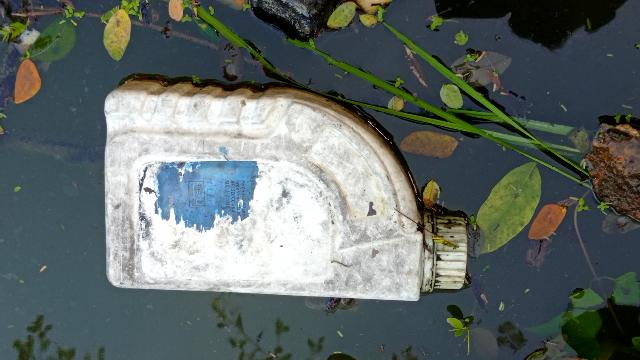bottle: (107, 77, 467, 306)
